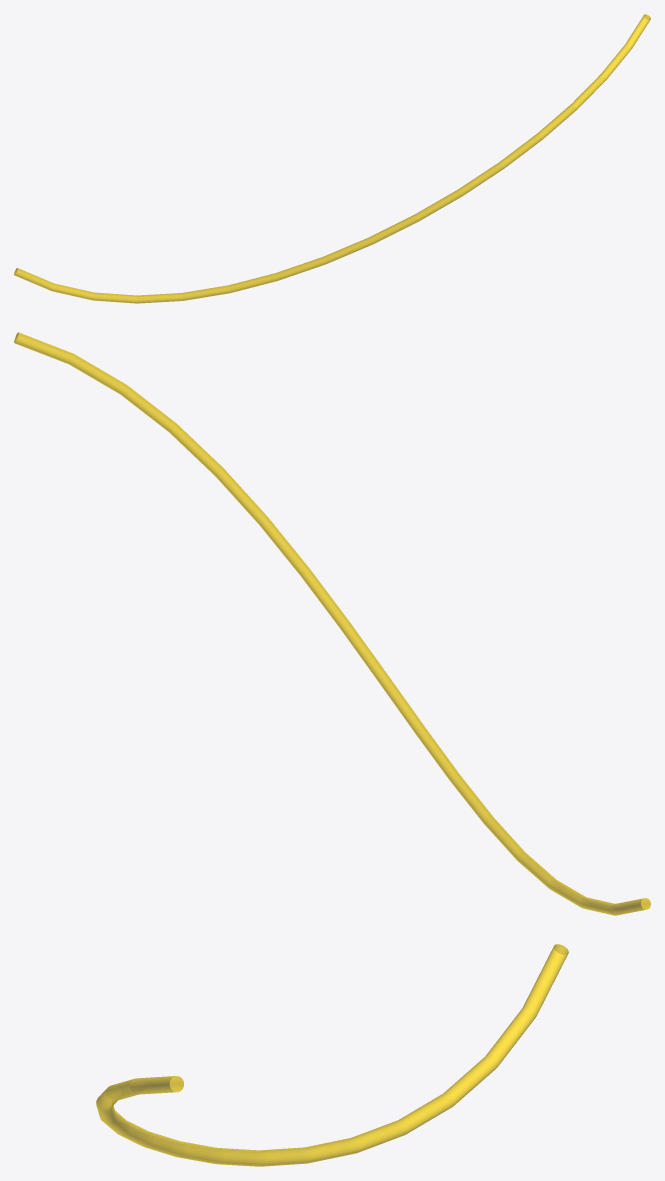
The model's file is Event_100608114_track_134.fbx.
3 renders of one model, top to bottom at view 1: azimuth 30°, elevation 25°; view 2: azimuth 150°, elevation 25°; view 3: azimuth 270°, elevation 25°, orthographic. The views are drawn at different scales.
Parts seen in each view (by area): view 1: Model; view 2: Model; view 3: Model.
Boxes of the visible parts, x1,y1,x2,y2 form: Model: (14,14,650,303); Model: (14,332,650,915); Model: (96,944,568,1166).
Bounding box in the file's own units: 3.03 × 1.24 × 1.15.
